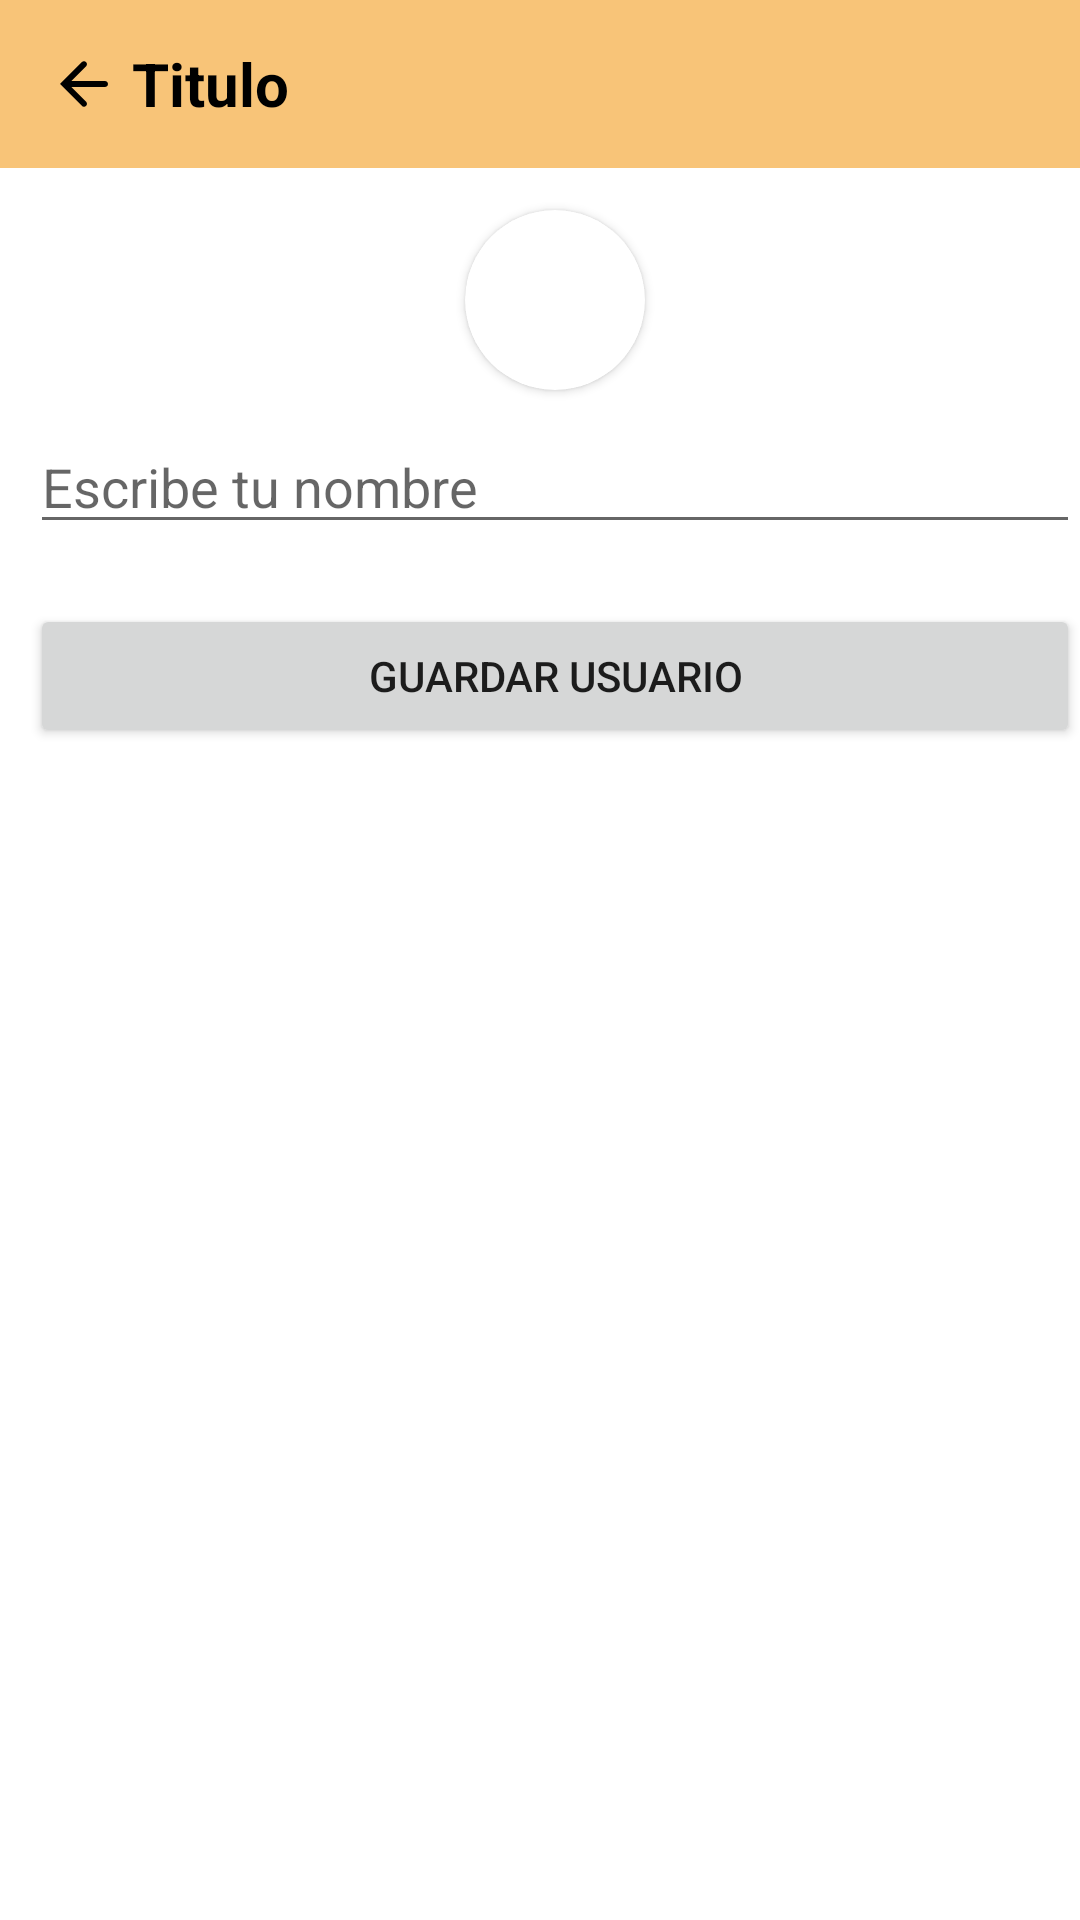

Screen size 1080w x 1920h. Icon name, then its center in pixels as point (x, y):
arrow left: point (84, 84)
